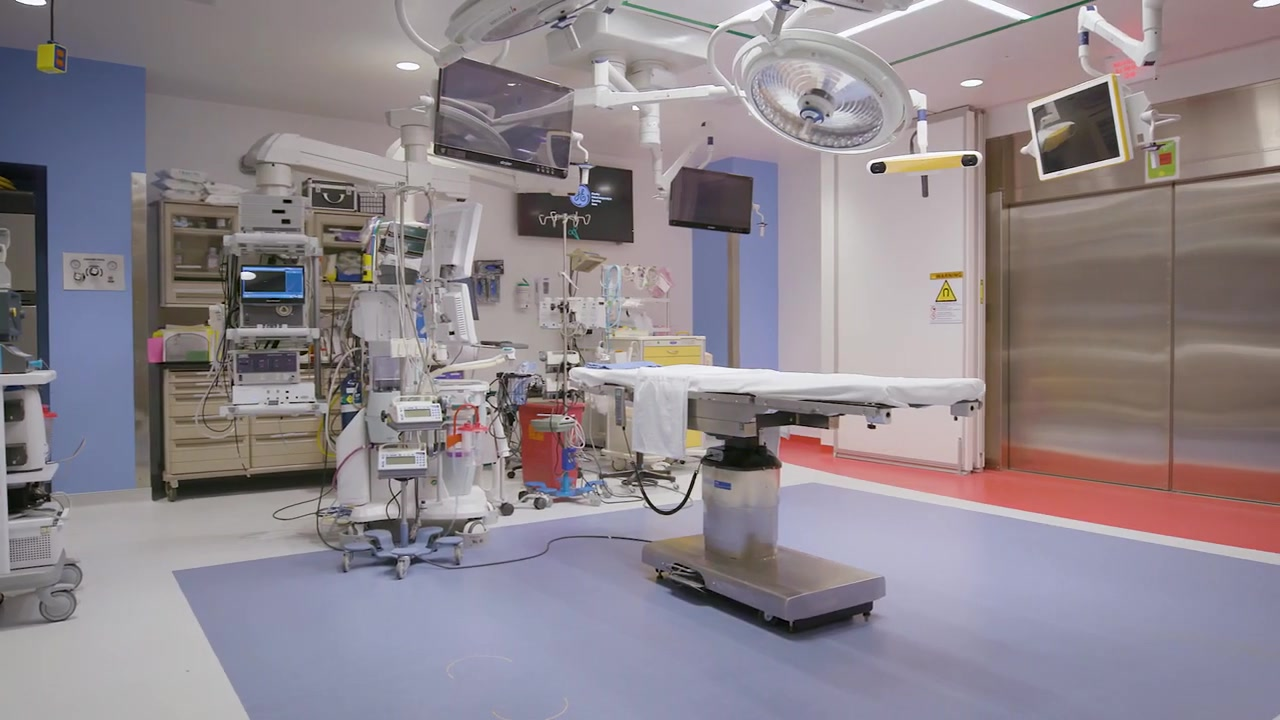bedside_monitor: (436, 57, 574, 176), (1025, 75, 1134, 179), (514, 160, 635, 243), (669, 166, 753, 236), (420, 200, 484, 279), (422, 282, 479, 346), (238, 266, 306, 303)
cabinet: (160, 201, 317, 305)
electrosurgical_unit: (1, 337, 55, 379)
handle: (668, 350, 679, 355)
iv_pole: (532, 210, 595, 392), (367, 176, 436, 273)
medical_drawer: (156, 360, 337, 478), (594, 334, 701, 461)
operating_bed: (569, 361, 986, 627)
surgical_light: (732, 31, 913, 157), (480, 1, 586, 46)
syringe_pump: (375, 450, 429, 475), (388, 398, 442, 422)
waste_bin: (515, 399, 587, 490)
